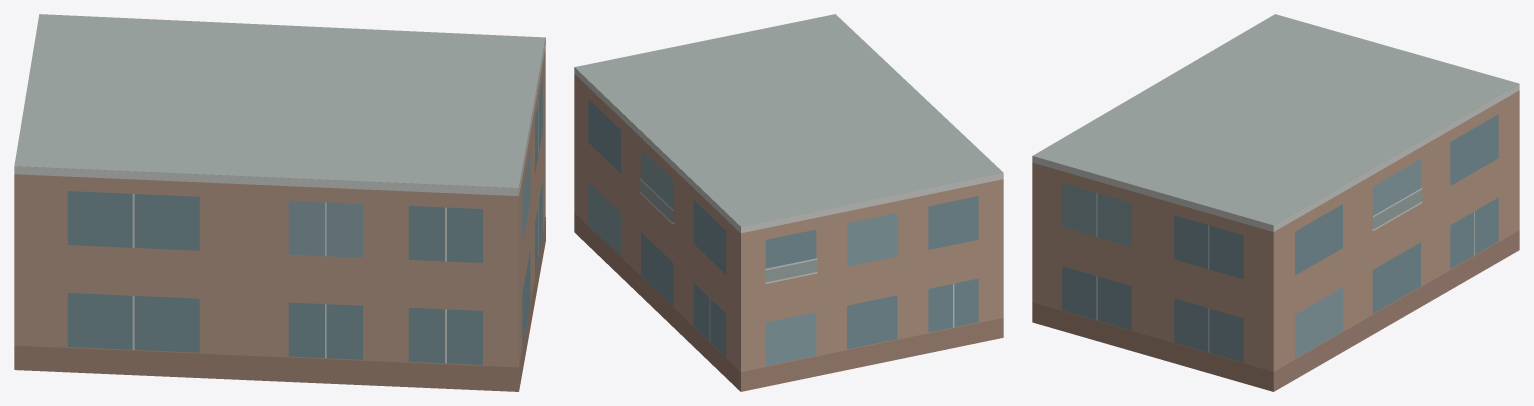
Rendered from survey-upis-32850772.glb.
3 views of the same model, side by side, from view 1: azimuth 30°, elevation 25°; view 2: azimuth 150°, elevation 25°; view 3: azimuth 270°, elevation 25° (orthographic). The views are drawn at different scales.
Visible parts, largest first — view 1: survey-upis-32850772.tmp; view 2: survey-upis-32850772.tmp; view 3: survey-upis-32850772.tmp.
Boxes of the visible parts, x1,y1,x2,y2 form: survey-upis-32850772.tmp: [14, 14, 545, 391]; survey-upis-32850772.tmp: [574, 14, 1003, 391]; survey-upis-32850772.tmp: [1032, 14, 1519, 391].
Bounding box in the file's own units: 16.62 × 6.1 × 16.19.
